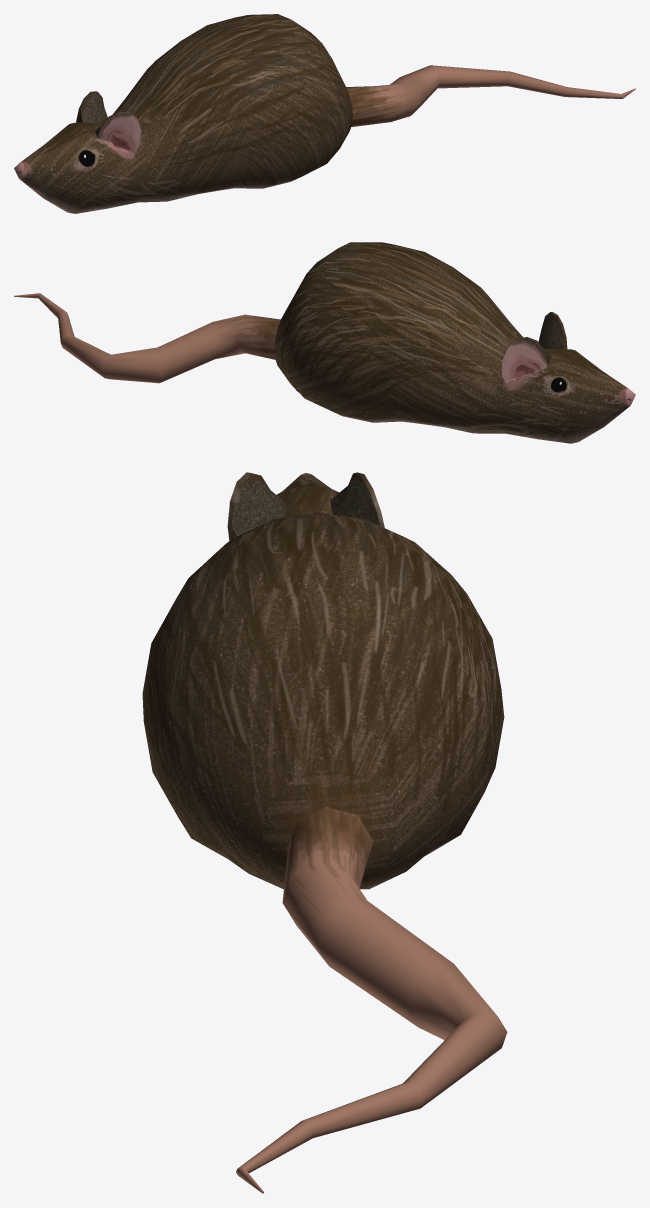
Rendered from rat.obj.
The picture shows the model from 3 angles, top to bottom: view 1: azimuth 30°, elevation 25°; view 2: azimuth 150°, elevation 25°; view 3: azimuth 270°, elevation 25°; orthographic projection. The views are drawn at different scales.
Parts seen in each view (by area): view 1: rat1_pCylinder24; view 2: rat1_pCylinder24; view 3: rat1_pCylinder24.
Boxes of the visible parts, <box> form: rat1_pCylinder24: <box>14,14,635,213</box>; rat1_pCylinder24: <box>14,242,635,443</box>; rat1_pCylinder24: <box>142,472,507,1193</box>.
Bounding box in the file's own units: 6.73 × 1.6 × 1.74.
Materials: 1 (1 with a texture image).
